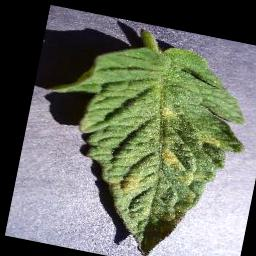Leaf_Mold: (103, 167, 144, 198), (156, 144, 189, 175), (195, 129, 226, 151), (159, 102, 184, 125)
